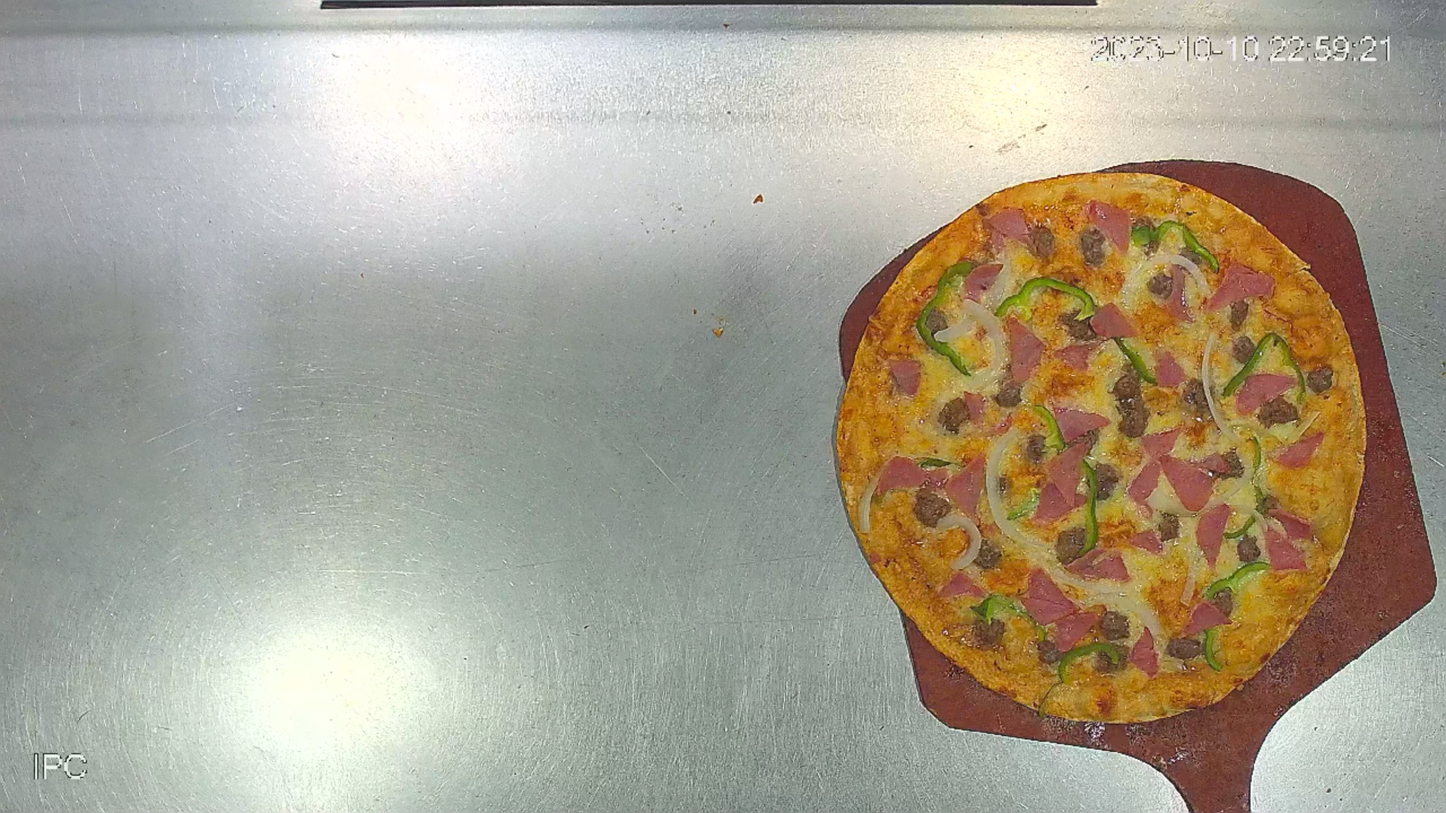manager_choice: (834, 170, 1369, 727)
